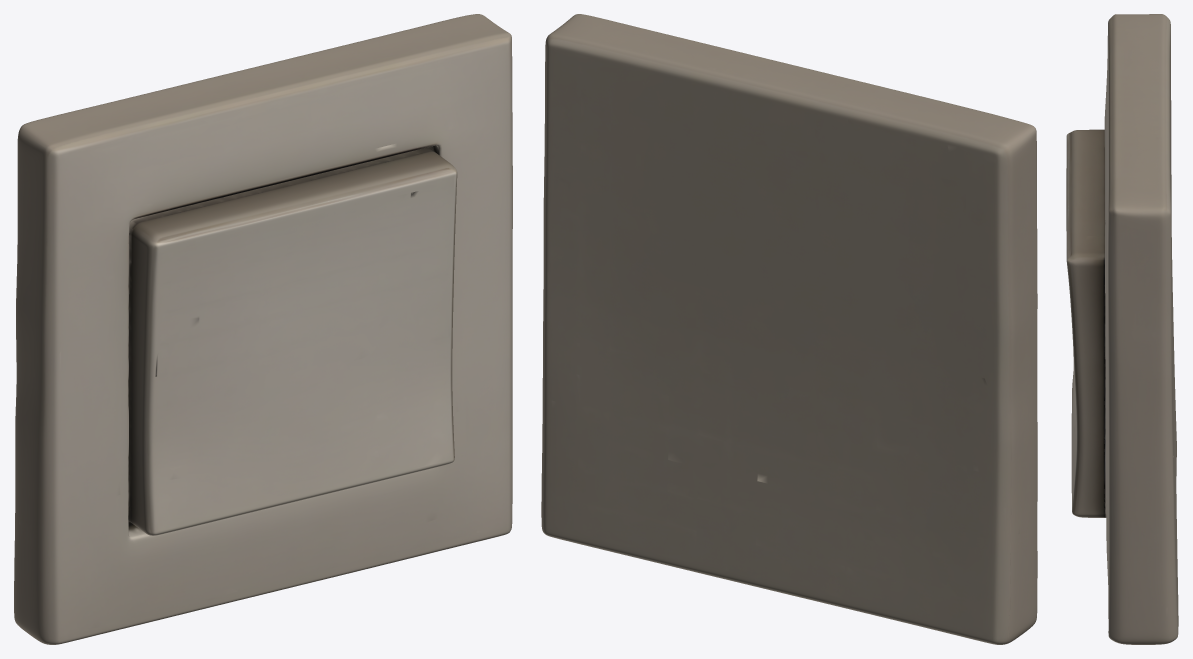
3 renders of one model, left to right at view 1: azimuth 30°, elevation 25°; view 2: azimuth 150°, elevation 25°; view 3: azimuth 270°, elevation 25°, orthographic. The views are drawn at different scales.
Parts seen in each view (by area): view 1: node_0; view 2: node_0; view 3: node_0.
Boxes of the visible parts, x1=… form: node_0: x1=14, y1=14, x2=512, y2=644; node_0: x1=541, y1=14, x2=1037, y2=644; node_0: x1=1066, y1=14, x2=1178, y2=644.
Bounding box in the file's own units: 0.8494 × 0.863 × 0.1998.
Materials: 1 (1 with a texture image).
